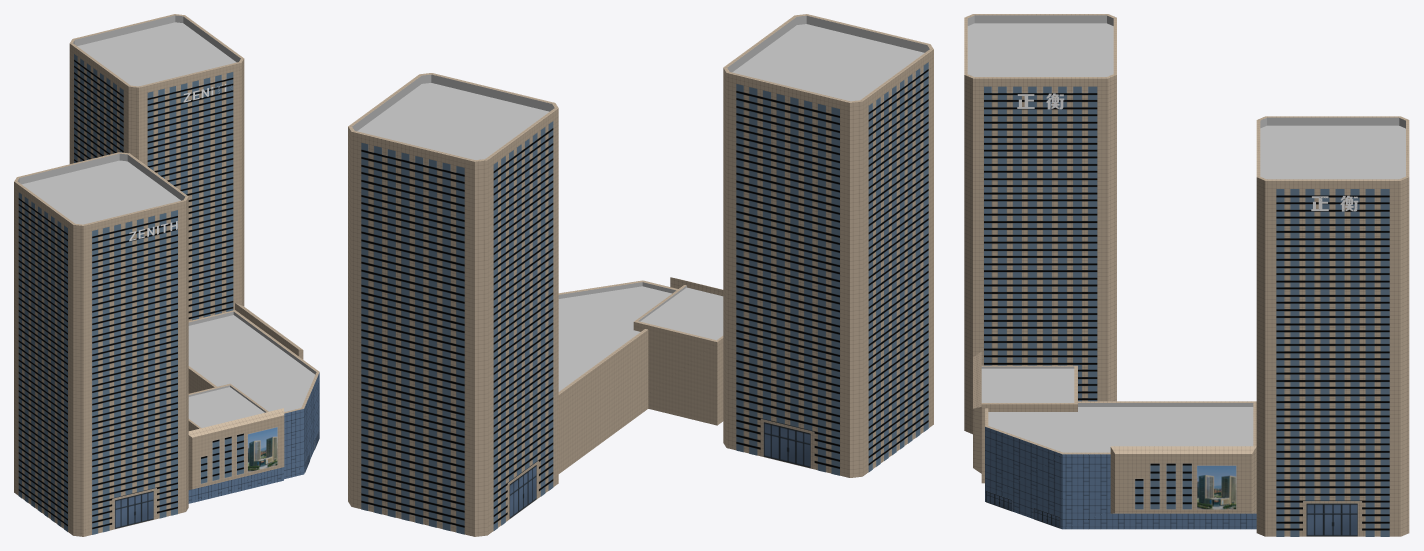
Rendered from ZhengHengJinRongGuangChang_building.glb.
3 renders of one model, left to right at view 1: azimuth 30°, elevation 25°; view 2: azimuth 150°, elevation 25°; view 3: azimuth 270°, elevation 25°, orthographic. The views are drawn at different scales.
Parts seen in each view (by area): view 1: Object009, Box001, Object007, Box004, Object014, Object006, Object, Box007, Object016, Object012, Object010, Box006 (+3 smaller); view 2: Object009, Object007, Box004, Box001, Object, Object006, Box002, Object008, Object014, Object010; view 3: Object007, Box004, Object009, Box001, Object012, Object014, Object006, Object, Box008, Object017, Object010, Object008 (+4 smaller).
Boxes of the visible parts, box(x1,y1,x2,y2) form: Object009: box(18, 192, 177, 534); Box001: box(14, 152, 188, 536); Object007: box(74, 54, 233, 320); Box004: box(69, 14, 244, 320); Object014: box(188, 311, 316, 411); Object006: box(73, 15, 240, 86); Object: box(17, 153, 185, 224); Box007: box(188, 408, 284, 489); Object016: box(200, 427, 277, 483); Object012: box(284, 372, 319, 479); Object010: box(188, 385, 266, 427); Box006: box(188, 467, 283, 503); Object009: box(736, 62, 928, 475); Object007: box(361, 121, 553, 534); Box004: box(348, 73, 558, 536); Box001: box(723, 14, 933, 477); Object: box(727, 15, 929, 101); Object006: box(352, 74, 554, 159); Box002: box(558, 280, 677, 473); Object008: box(633, 285, 723, 425); Object014: box(558, 282, 676, 391); Object010: box(638, 285, 723, 340); Object007: box(1276, 189, 1389, 536); Box004: box(1256, 116, 1409, 536); Object009: box(984, 86, 1097, 401); Box001: box(964, 14, 1116, 434); Object012: box(985, 427, 1256, 529); Object014: box(988, 403, 1253, 452); Object006: box(1260, 117, 1405, 179); Object: box(967, 15, 1113, 76); Box008: box(1110, 446, 1256, 513); Object017: box(1135, 463, 1236, 509); Object010: box(981, 366, 1074, 402); Object008: box(981, 365, 1077, 483).
Size of the model in its own units: 90.7 by 90 by 103.
5 materials, 4 textured.
